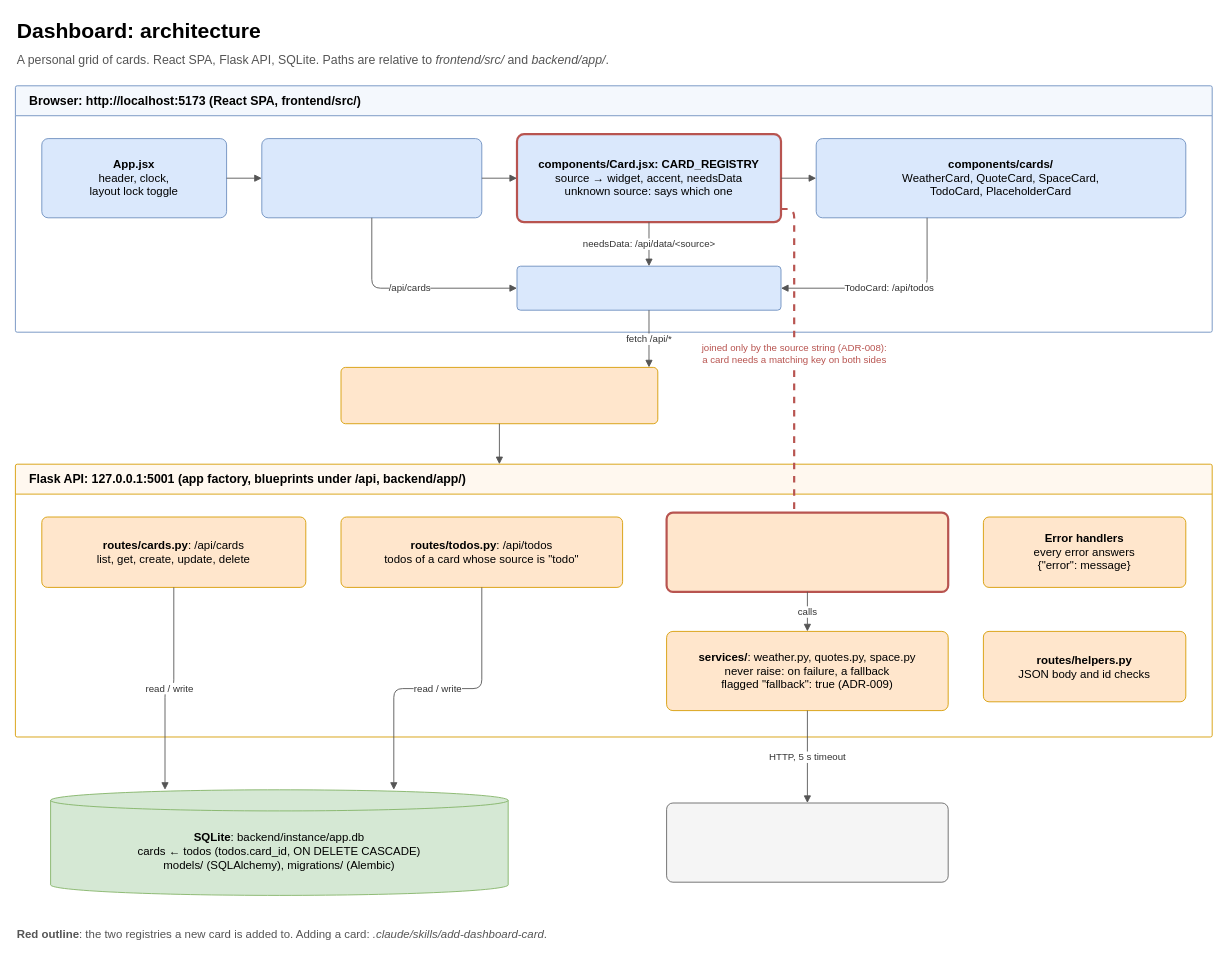
Image size: 1228x959. Some labels were removed from this diagram. The centre of each missing label's shape, as x and y in pixels:
"api.js : the only module that calls fetch()" goes at (x=648, y=287).
"components/Dashboard.jsx react-grid-layout grid; saves a moved card's layout" goes at (x=371, y=178).
"External APIs Open-Meteo (weather), ZenQuotes (quote), NASA APOD (space)" goes at (x=807, y=842).
"routes/data.py: SERVICES /api/data/<source> source → service.fetch()" goes at (x=807, y=552).
"Vite dev server :5173 proxies /api → 127.0.0.1:5001" goes at (x=499, y=395).
